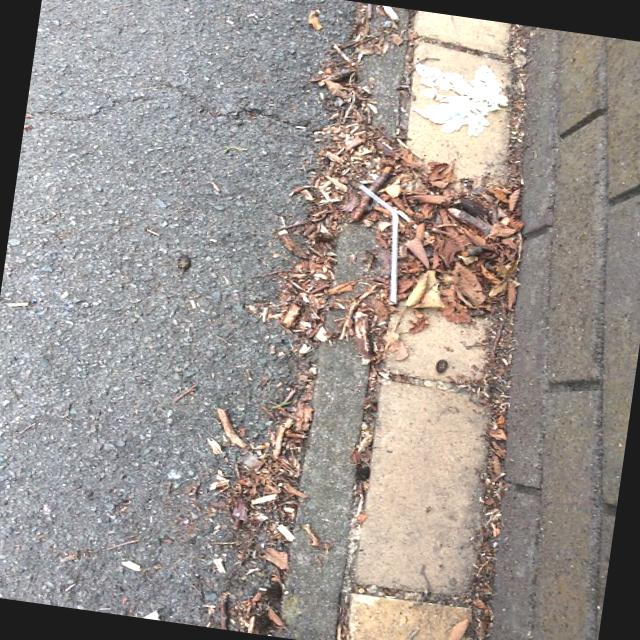Trash: (336, 180, 418, 306)
